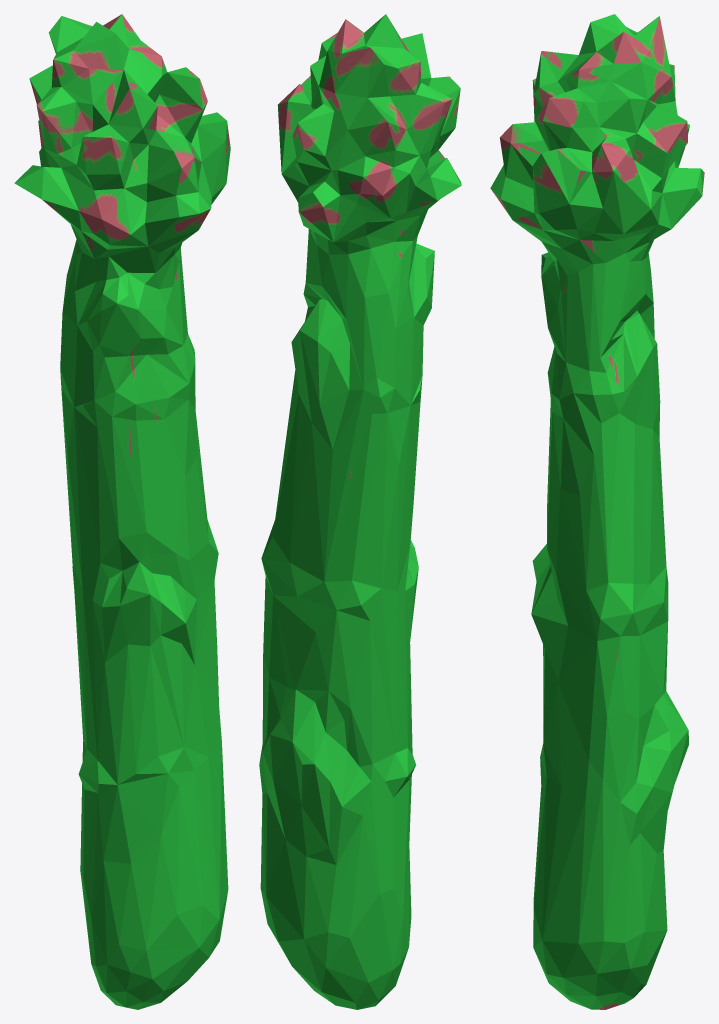
Rendered from Asperge.fbx.
3 views of the same model, side by side, from view 1: azimuth 30°, elevation 25°; view 2: azimuth 150°, elevation 25°; view 3: azimuth 270°, elevation 25° (orthographic). The views are drawn at different scales.
Visible parts, largest first — view 1: Asperge; view 2: Asperge; view 3: Asperge.
Boxes of the visible parts, <box> form: Asperge: <box>14,14,230,1009</box>; Asperge: <box>259,14,461,1009</box>; Asperge: <box>490,14,704,1009</box>.
Bounding box in the file's own units: 114 × 538 × 107.
Materials: 1 (1 with a texture image).
